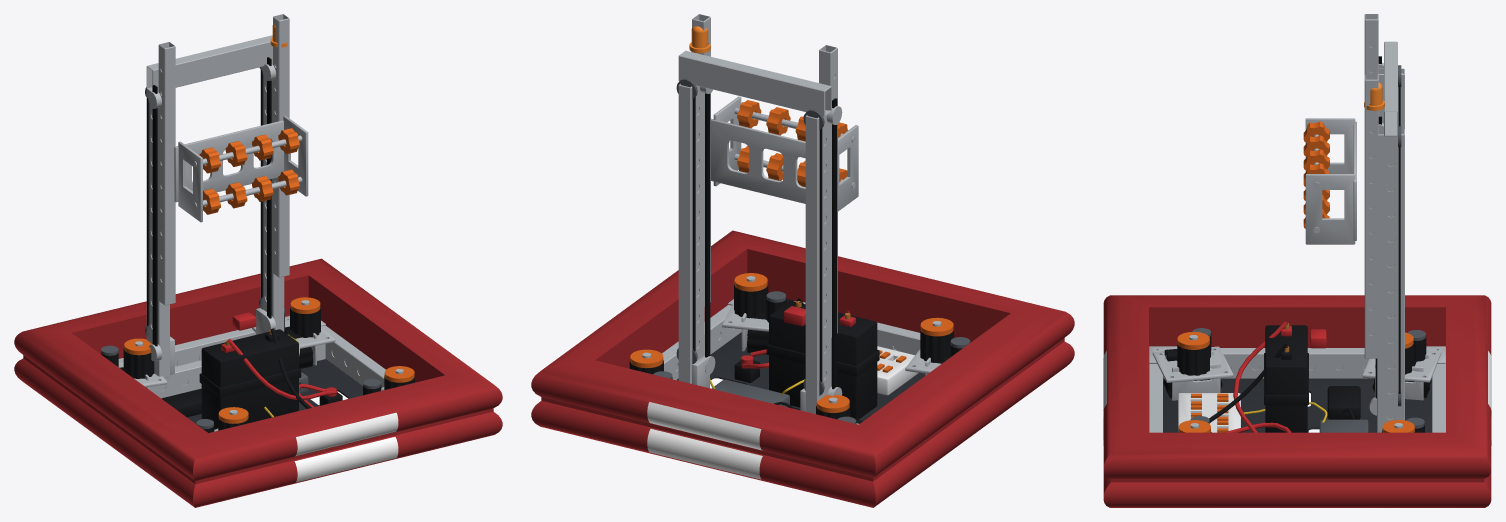
File: robot.glb
3 renders of one model, left to right at view 1: azimuth 30°, elevation 25°; view 2: azimuth 150°, elevation 25°; view 3: azimuth 270°, elevation 25°, orthographic. The views are drawn at different scales.
Visible parts, largest first — view 1: robot_body, robot_carriage; view 2: robot_body, robot_carriage; view 3: robot_body, robot_carriage.
Boxes of the visible parts, x1,y1,x2,y2 form: robot_body: (14,14,502,507); robot_carriage: (174,116,308,222); robot_body: (531,14,1074,507); robot_carriage: (711,96,858,211); robot_body: (1103,14,1491,507); robot_carriage: (1303,118,1356,244).
Size of the model in its own units: 0.7057 by 0.8158 by 0.707.
